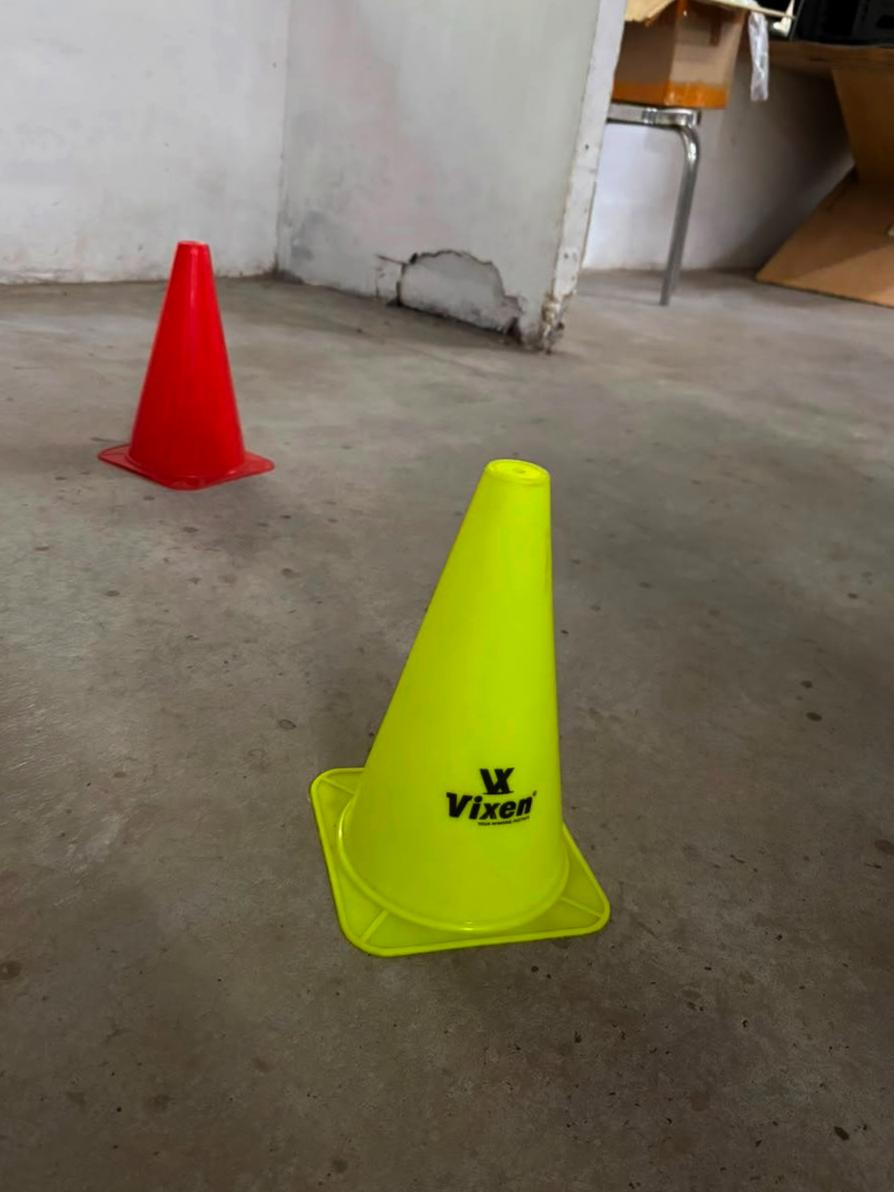0 cone: (311, 460, 609, 956), (99, 242, 272, 490)
